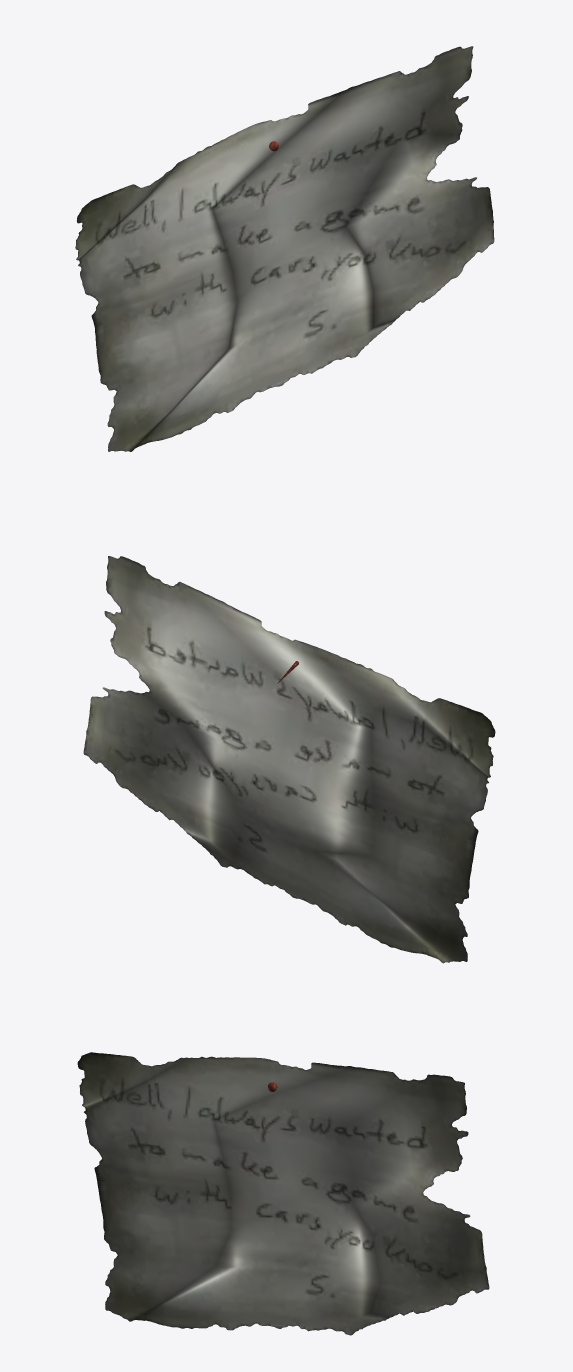
The model's file is ADDON_CANYONOBJECT_SIGN_01.glb.
3 renders of one model, top to bottom at view 1: azimuth 30°, elevation 25°; view 2: azimuth 150°, elevation 25°; view 3: azimuth 330°, elevation 25°, orthographic.
Parts seen in each view (by area): view 1: Mesh; view 2: Mesh; view 3: Mesh.
Boxes of the visible parts, x1=… form: Mesh: x1=75, y1=46, x2=494, y2=451; Mesh: x1=83, y1=556, x2=495, y2=963; Mesh: x1=77, y1=1052, x2=489, y2=1335.
Bounding box in the file's own units: 0.2895 × 0.1833 × 0.0237.
2 materials, 2 textured.
